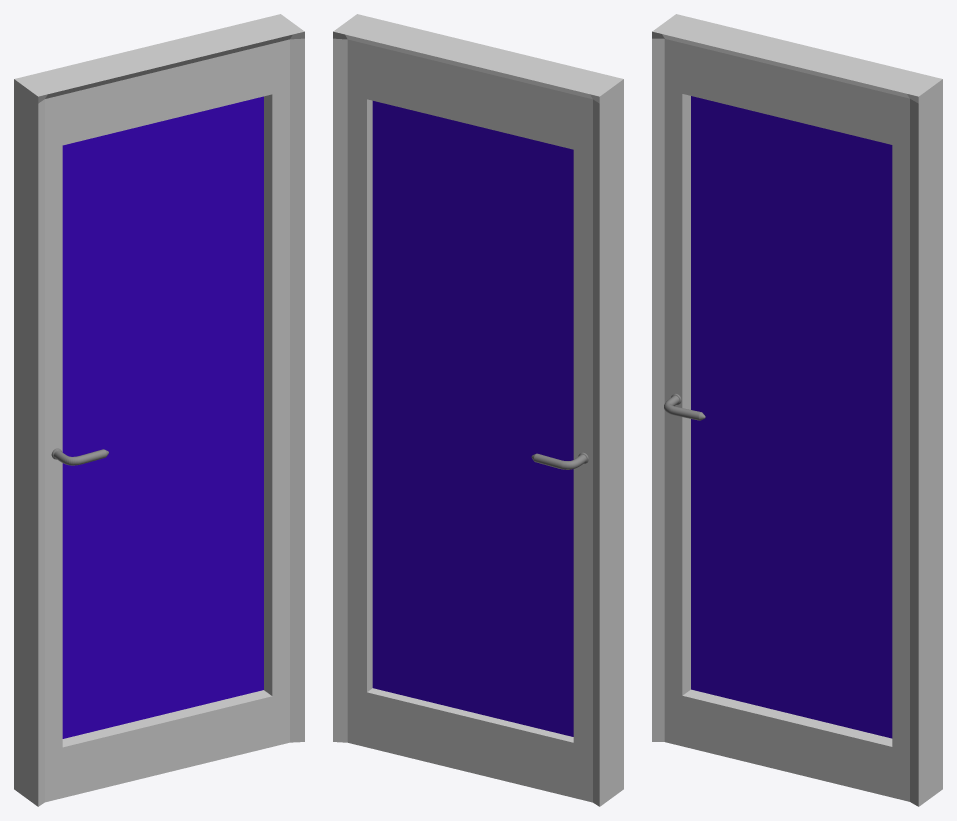
File: BathroomDoor NEW.fbx
The picture shows the model from 3 angles, left to right: view 1: azimuth 30°, elevation 25°; view 2: azimuth 150°, elevation 25°; view 3: azimuth 330°, elevation 25°; orthographic projection.
Parts seen in each view (by area): view 1: Glass, BathroomDoor, Handle.001; view 2: Glass, BathroomDoor, Handle; view 3: Glass, BathroomDoor.
Part boxes in pixels (x1,y1,x2,y2): Glass: [62, 96, 263, 738]; BathroomDoor: [14, 14, 304, 806]; Handle.001: [51, 448, 108, 465]; Glass: [372, 101, 573, 736]; BathroomDoor: [333, 14, 623, 806]; Handle: [531, 452, 588, 469]; Glass: [691, 96, 892, 738]; BathroomDoor: [652, 14, 942, 806].
Bounding box in the file's own units: 91.15 × 232 × 28.31.
